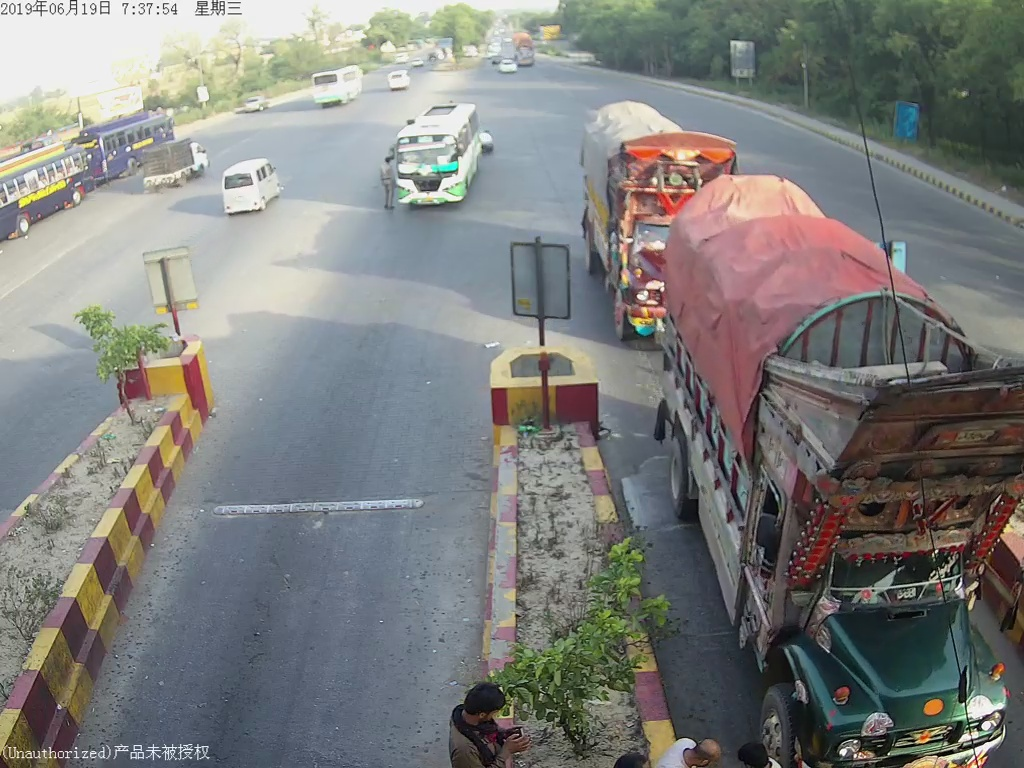Cat-3: (387, 96, 481, 209)
Cat-4: (682, 194, 1024, 762), (581, 101, 729, 339)
